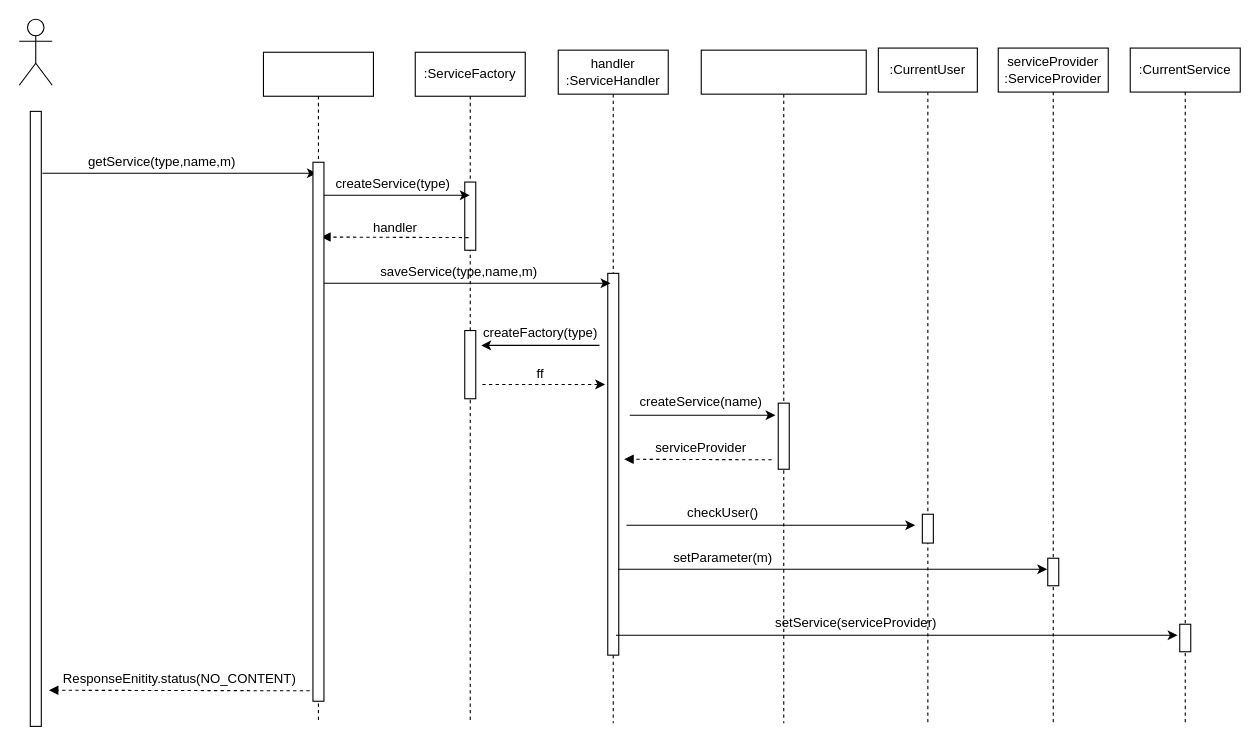
The diagram is 1260 pixels wide and 746 high, and some of its shapes have lost their labels. Here are the shapes that lost their labels. From the top down, the box of each, then its label:
(18, 18, 52, 85): User
(262, 51, 373, 723): :ServiceController
(700, 49, 866, 723): ff:ServiceProviderFactory
